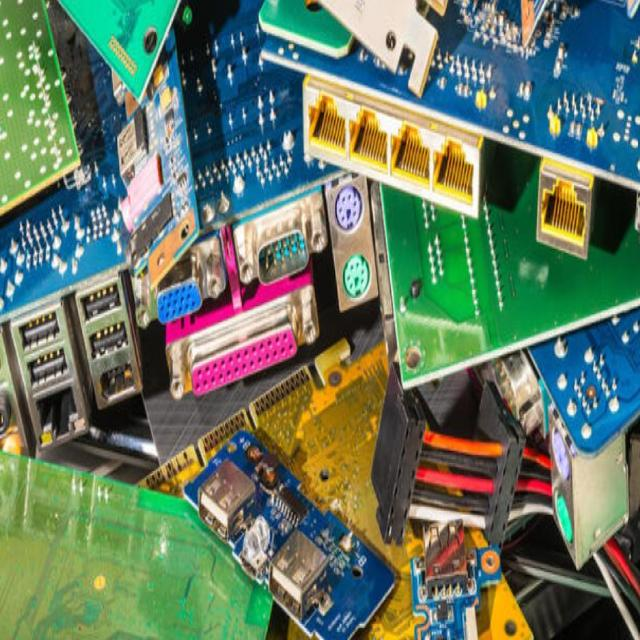electronic: (195, 168, 331, 316), (122, 248, 240, 353)
